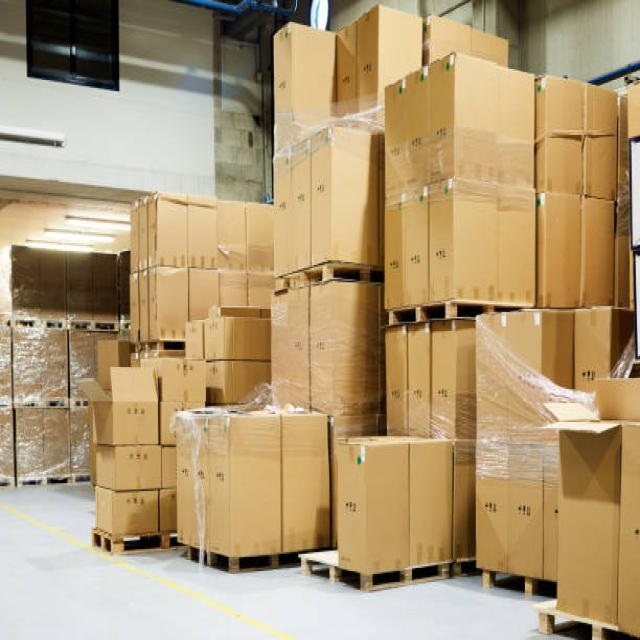Wooden-Pallets: (295, 550, 453, 596), (381, 299, 489, 328), (87, 525, 174, 560)
